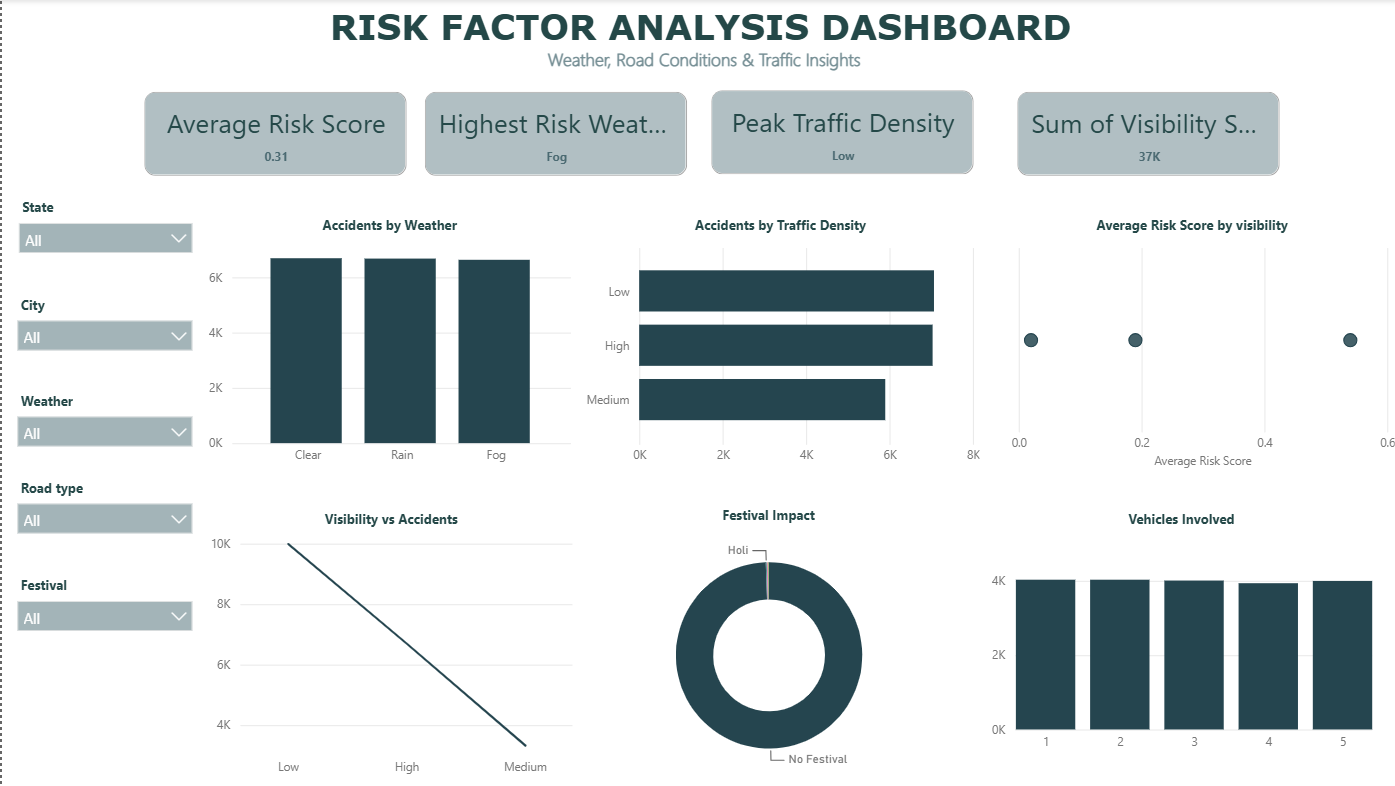

The dashboard page shown, as its layout file describes it:
{"tool":"powerbi","page":{"name":"RISK FACTOR ANALYSIS","canvas":[1280,720],"ordinal":3},"visuals":[{"type":"textbox","box":[10,0,1270,75],"z":0},{"type":"slicer","fields":{"Values":["Accidents.state"]},"box":[5,176.7,178.3,58.3],"z":1000},{"type":"slicer","fields":{"Values":["Accidents.city"]},"box":[4.4,265.6,180,58.3],"z":2000},{"type":"slicer","fields":{"Values":["Accidents.weather"]},"box":[4.4,353.9,180,58.3],"z":3000},{"type":"slicer","fields":{"Values":["Accidents.road_type"]},"box":[4.4,433.9,180,58.3],"z":4000},{"type":"slicer","fields":{"Values":["Accidents.festival"]},"box":[4.4,522.2,180,58.3],"z":5000},{"type":"clusteredColumnChart","title":"Accidents by Weather","fields":{"Category":["Accidents.weather"],"Y":["Accidents.Total Accidents"]},"box":[183.3,198.3,341.7,235],"z":6000},{"type":"clusteredBarChart","title":"Accidents by Traffic Density","fields":{"Category":["Accidents.traffic_density"],"Y":["Accidents.Total Accidents"]},"box":[525,198.3,373.3,235],"z":7000},{"type":"lineChart","title":"Visibility vs Accidents","fields":{"Category":["Accidents.visibility"],"Y":["Accidents.Total Accidents"]},"box":[185,468.3,341.7,251.7],"z":8000},{"type":"donutChart","title":"Festival Impact","fields":{"Category":["Accidents.festival"],"Y":["Accidents.Total Accidents"]},"box":[525,463.3,351.7,256.7],"z":9000},{"type":"clusteredColumnChart","title":"Vehicles Involved","fields":{"Category":["Accidents.vehicles_involved"],"Y":["Accidents.Total Accidents"]},"box":[900,468,358,228],"z":10000},{"type":"scatterChart","fields":{"Category":["Accidents.visibility"],"X":["Accidents.Average Risk Score"]},"box":[899.4,198.4,380.1,234.7],"z":11000},{"type":"cardVisual","fields":{"Data":["Accidents.Average Risk Score"]},"box":[125.2,79.3,250,87],"z":12000},{"type":"cardVisual","fields":{"Data":["Accidents.Highest Risk Weather"]},"box":[381.9,79.3,250,87],"z":13000},{"type":"cardVisual","fields":{"Data":["Accidents.Peak Traffic Density"]},"box":[643.6,77.7,250,87],"z":14000},{"type":"cardVisual","fields":{"Data":["Sum(Accidents.Visibility Score)"]},"box":[923.6,79.3,250,87],"z":15000}]}

Visuals, with their boxes in screenshot pixels (x1, y1, x2, y2), scaled from the page's 1280x720 canvas onto the 1395x786 screenshot:
textbox: (11, 0, 1394, 82)
slicer - Accidents.state: (5, 193, 200, 257)
slicer - Accidents.city: (5, 290, 201, 354)
slicer - Accidents.weather: (5, 386, 201, 450)
slicer - Accidents.road_type: (5, 474, 201, 537)
slicer - Accidents.festival: (5, 570, 201, 634)
"Accidents by Weather" clusteredColumnChart: (200, 216, 572, 473)
"Accidents by Traffic Density" clusteredBarChart: (572, 216, 979, 473)
"Visibility vs Accidents" lineChart: (202, 511, 574, 785)
"Festival Impact" donutChart: (572, 506, 955, 785)
"Vehicles Involved" clusteredColumnChart: (981, 511, 1371, 760)
scatterChart - Accidents.visibility x Accidents.Average Risk Score: (980, 217, 1394, 473)
cardVisual - Accidents.Average Risk Score: (136, 87, 409, 182)
cardVisual - Accidents.Highest Risk Weather: (416, 87, 689, 182)
cardVisual - Accidents.Peak Traffic Density: (701, 85, 974, 180)
cardVisual - Sum(Accidents.Visibility Score): (1007, 87, 1279, 182)
